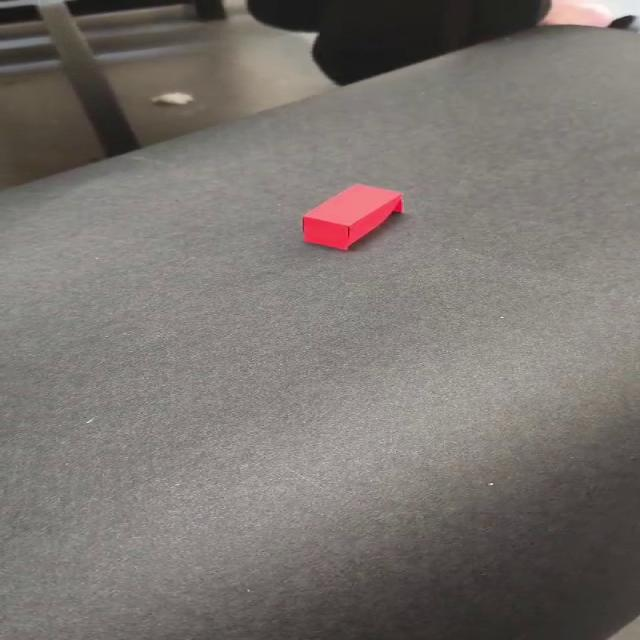red block: (300, 182, 404, 250)
